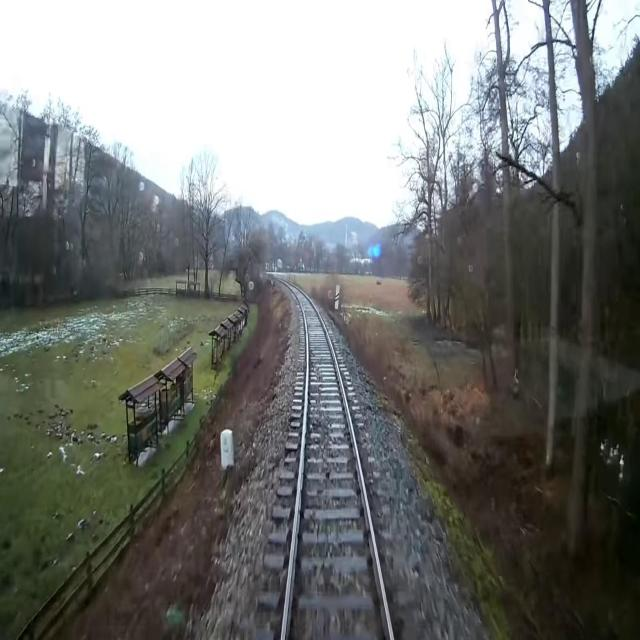rail-track: (286, 284, 389, 639)
